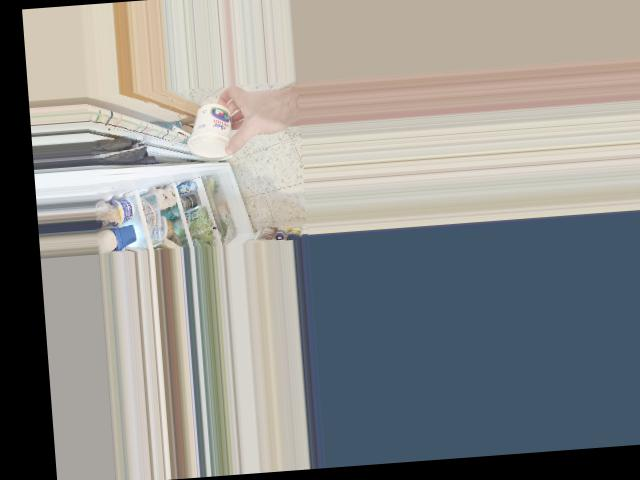cotage: (186, 101, 238, 158)
